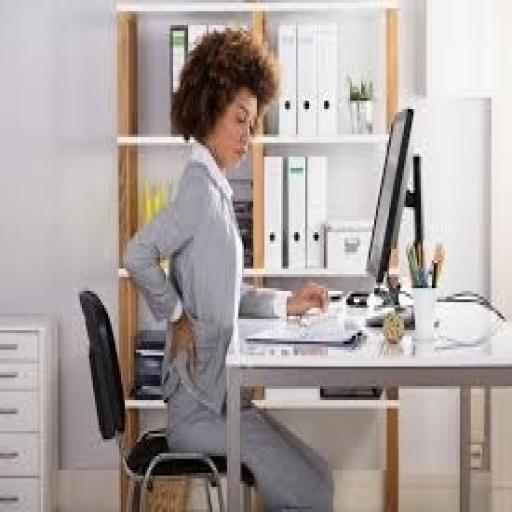sitting: (121, 22, 335, 510)
